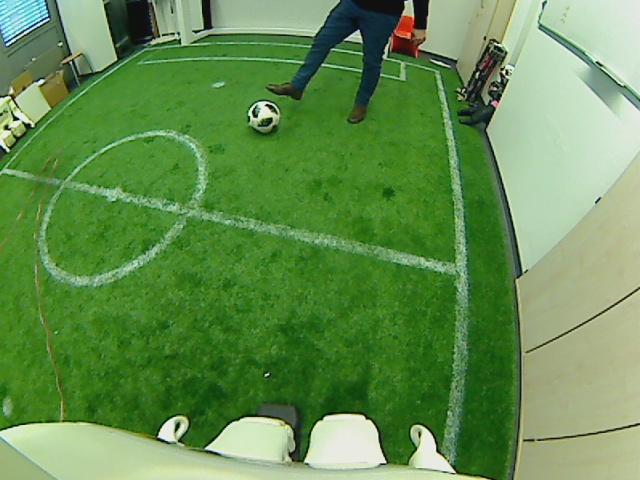ball: (245, 99, 281, 134)
